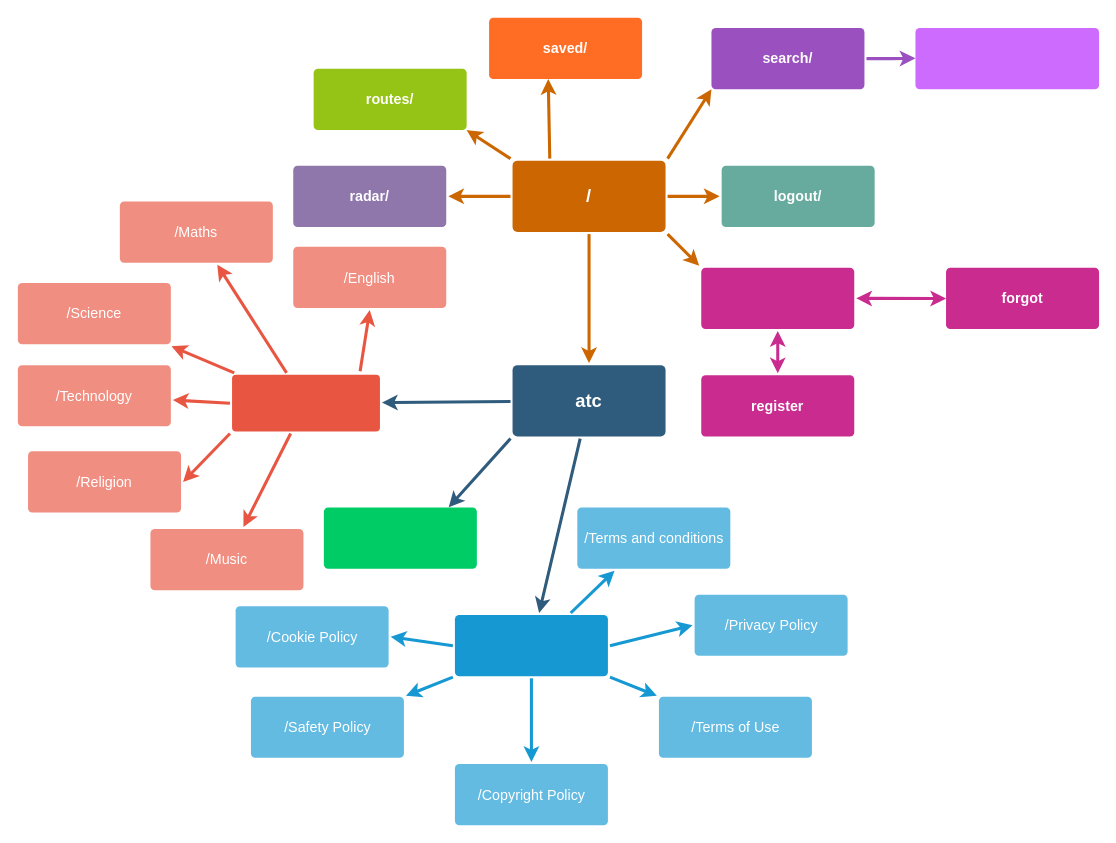
This 1116x843 diagram has some shape labels left out. The shapes that lost their labels are listed below. From the top down, each one's box as (x1, y1, x2, y2) in pixels, then its label:
(915, 28, 1099, 89): search/q=<str:location>
(701, 267, 854, 328): login
(232, 374, 379, 431): /Subjects
(323, 507, 476, 568): /EREA
(454, 615, 607, 676): /Terms and Policies
